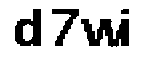7: (49, 3, 82, 53)
d: (8, 5, 45, 52)
i: (121, 4, 141, 55)
w: (78, 18, 122, 50)
